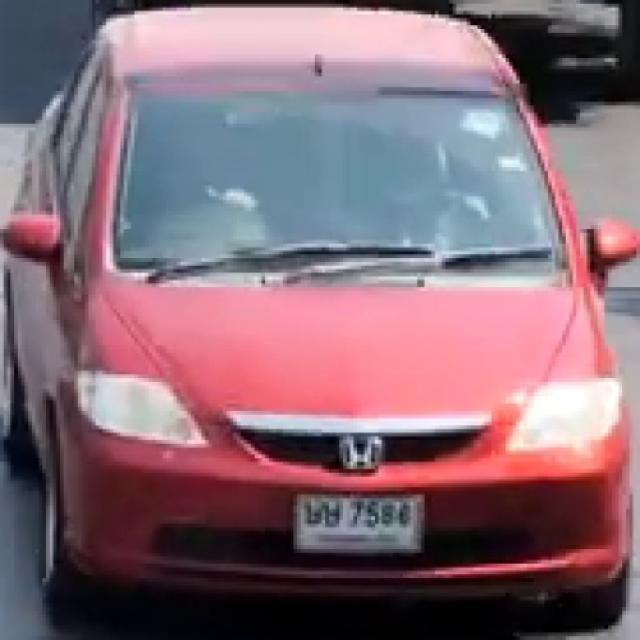plate: (298, 496, 419, 551)
